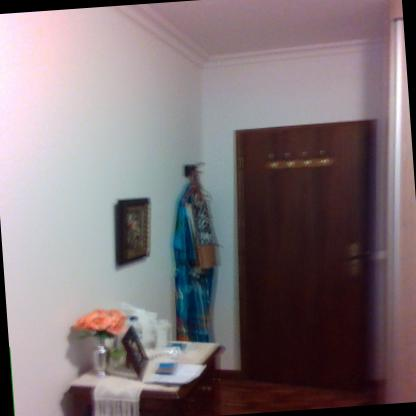closed: (216, 109, 403, 406)
